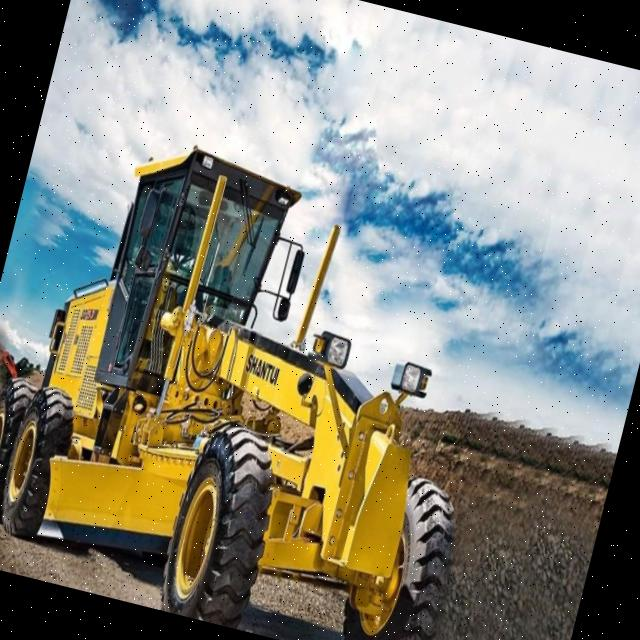Grader: (0, 99, 542, 640)
